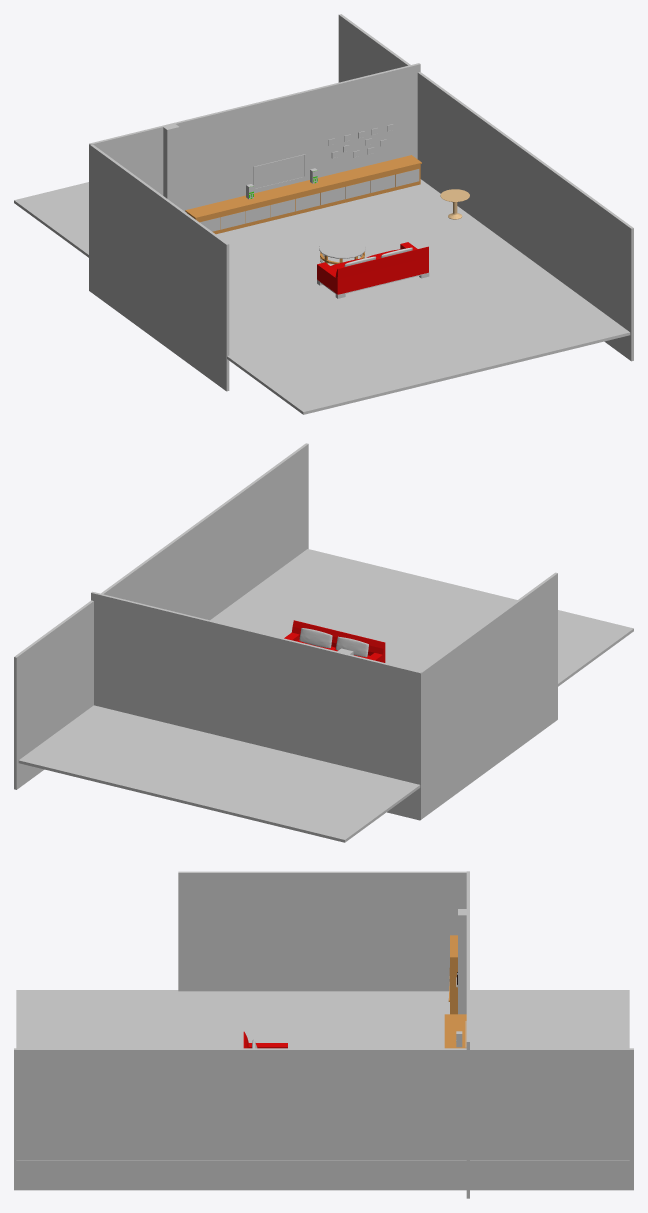
The model's file is house.dae.
3 views of the same model, one above another, from view 1: azimuth 30°, elevation 25°; view 2: azimuth 150°, elevation 25°; view 3: azimuth 270°, elevation 25° (orthographic). The views are drawn at different scales.
Visible parts, largest first — view 1: Cube_003, Cube_001, Cube, Cube_002, Cube_005, Cube_014, Plane, Circle_002; view 2: Cube_003, Cube, Cube_001, Cube_002, Cube_014; view 3: Cube_001, Cube_003, Cube_002, Cube, Cube_005, Cube_041.
Part boxes in pixels (bbox=[...]): Cube_003: bbox=[14, 179, 630, 414]; Cube_001: bbox=[338, 14, 633, 361]; Cube: bbox=[89, 63, 420, 212]; Cube_002: bbox=[89, 144, 229, 391]; Cube_005: bbox=[185, 155, 421, 234]; Cube_014: bbox=[317, 242, 428, 294]; Plane: bbox=[253, 154, 305, 189]; Circle_002: bbox=[319, 238, 365, 258]; Cube_003: bbox=[18, 549, 633, 842]; Cube: bbox=[91, 591, 421, 820]; Cube_001: bbox=[14, 443, 308, 789]; Cube_002: bbox=[420, 572, 557, 819]; Cube_014: bbox=[284, 620, 385, 662]; Cube_001: bbox=[14, 1048, 633, 1190]; Cube_003: bbox=[16, 990, 629, 1163]; Cube_002: bbox=[178, 871, 466, 991]; Cube: bbox=[458, 871, 469, 1198]; Cube_005: bbox=[444, 1014, 466, 1048]; Cube_041: bbox=[448, 935, 457, 1014].
Bounding box in the file's own units: 6.75 × 10.36 × 2.89.
